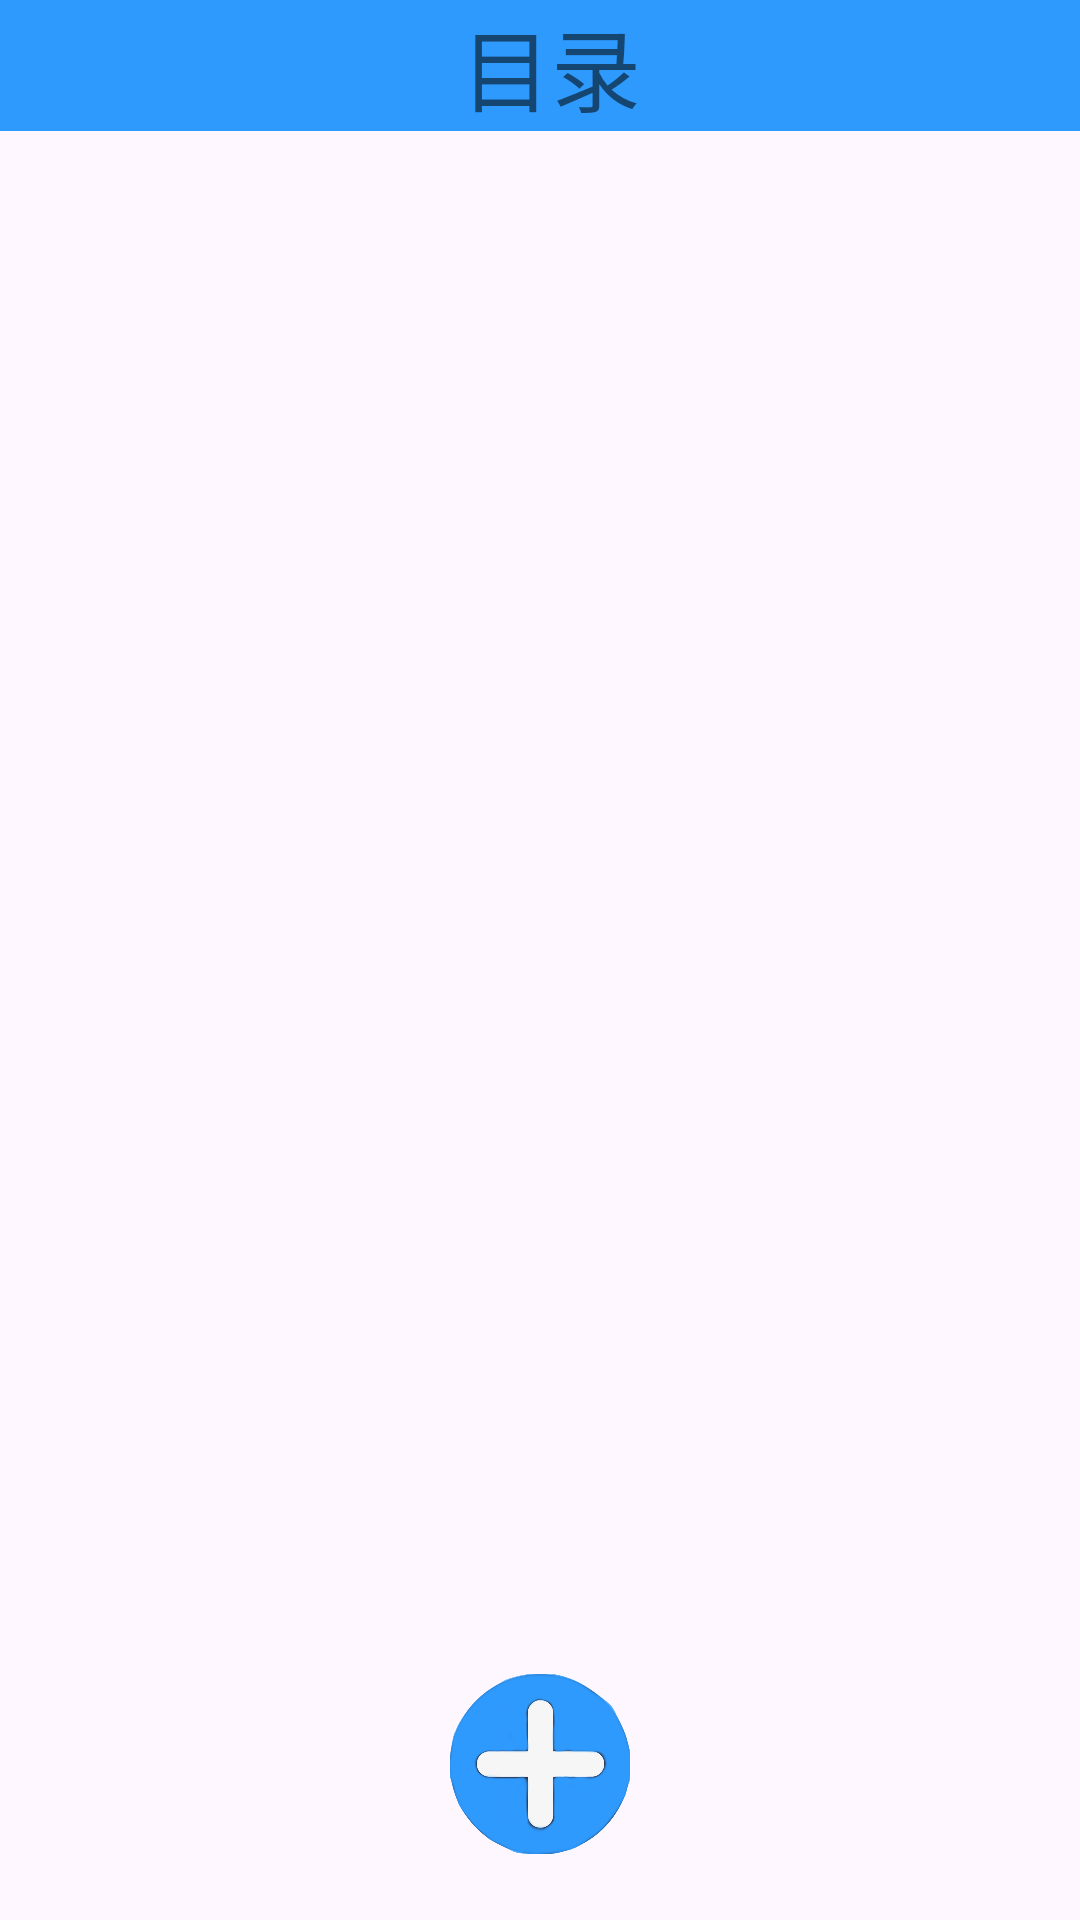

Named icons in this screenshot (1080x1920) and their bounding boxes, (x1, y1, x2, y2):
add: (450, 1674, 630, 1854)
